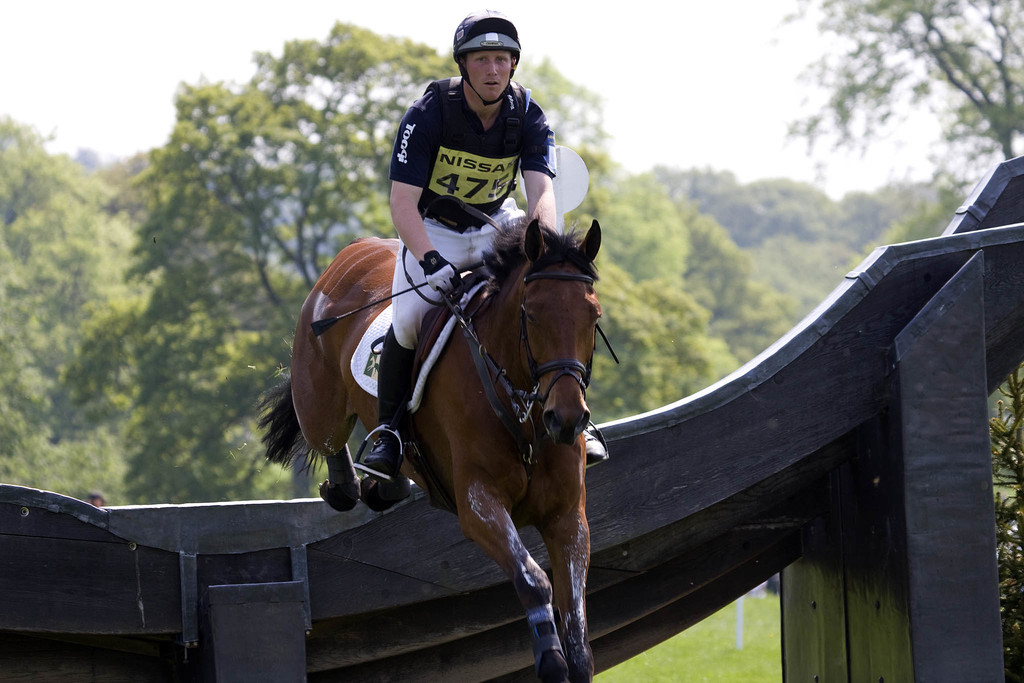horse: (250, 210, 602, 682)
